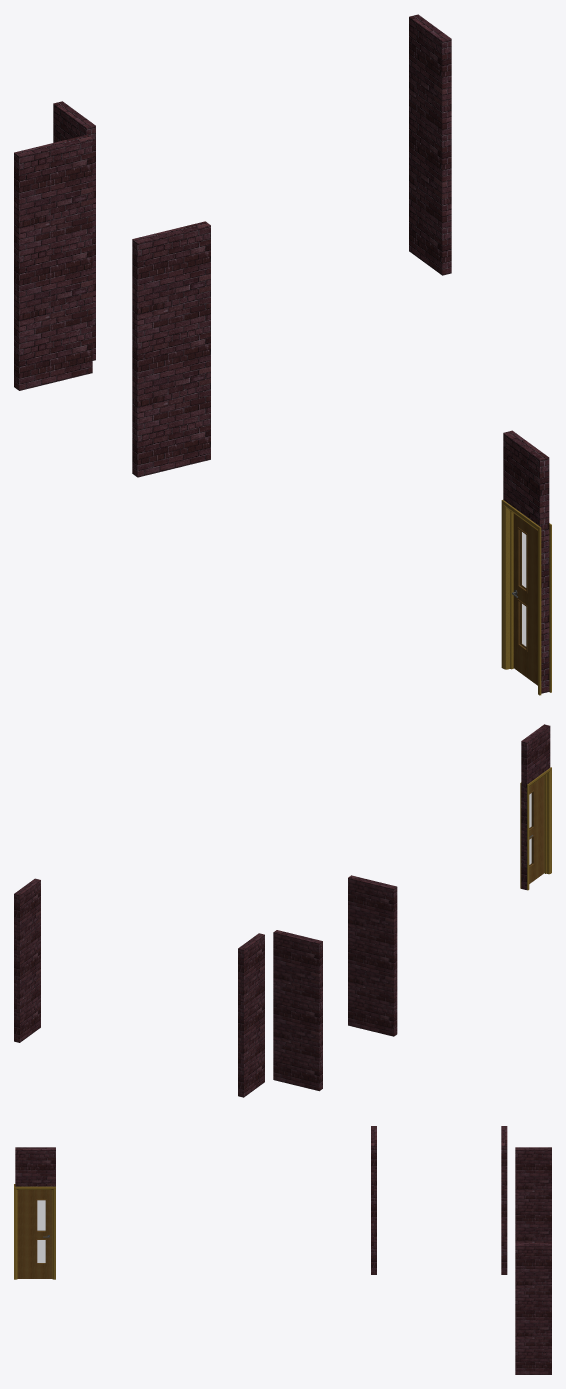
3 renders of one model, top to bottom at view 1: azimuth 30°, elevation 25°; view 2: azimuth 150°, elevation 25°; view 3: azimuth 270°, elevation 25°, orthographic. The views are drawn at different scales.
Parts seen in each view (by area): view 1: Basic Wall Wall-Ext_215Bwk [640806]001, Basic Wall Wall-Ext_215Bwk [647689]001, Basic Wall Wall-Ext_215Bwk [648112]001, Doors_IntSgl_3 810x2110mm [642473]001, Basic Wall Wall-Ext_215Bwk [642278]001, Basic Wall Wall-Ext_215Bwk [647976]001; view 2: Basic Wall Wall-Ext_215Bwk [647689]001, Basic Wall Wall-Ext_215Bwk [640806]001, Basic Wall Wall-Ext_215Bwk [647976]001, Basic Wall Wall-Ext_215Bwk [648112]001, Doors_IntSgl_3 810x2110mm [642473]001, Basic Wall Wall-Ext_215Bwk [642278]001; view 3: Basic Wall Wall-Ext_215Bwk [648112]001, Doors_IntSgl_3 810x2110mm [642473]001, Basic Wall Wall-Ext_215Bwk [647976]001, Basic Wall Wall-Ext_215Bwk [642278]001, Basic Wall Wall-Ext_215Bwk [647689]001, Basic Wall Wall-Ext_215Bwk [640806]001.
Part boxes in pixels (x1,y1,x2,y2): Basic Wall Wall-Ext_215Bwk [640806]001: (132, 221, 210, 477); Basic Wall Wall-Ext_215Bwk [647689]001: (14, 135, 92, 390); Basic Wall Wall-Ext_215Bwk [648112]001: (409, 14, 451, 275); Doors_IntSgl_3 810x2110mm [642473]001: (501, 500, 551, 695); Basic Wall Wall-Ext_215Bwk [642278]001: (503, 430, 549, 693); Basic Wall Wall-Ext_215Bwk [647976]001: (53, 101, 95, 360); Basic Wall Wall-Ext_215Bwk [647689]001: (273, 930, 322, 1091); Basic Wall Wall-Ext_215Bwk [640806]001: (348, 875, 397, 1036); Basic Wall Wall-Ext_215Bwk [647976]001: (238, 933, 264, 1097); Basic Wall Wall-Ext_215Bwk [648112]001: (14, 878, 40, 1042); Doors_IntSgl_3 810x2110mm [642473]001: (520, 767, 551, 890); Basic Wall Wall-Ext_215Bwk [642278]001: (521, 724, 550, 889); Basic Wall Wall-Ext_215Bwk [648112]001: (515, 1243, 551, 1374); Doors_IntSgl_3 810x2110mm [642473]001: (14, 1184, 55, 1279); Basic Wall Wall-Ext_215Bwk [647976]001: (515, 1147, 551, 1243); Basic Wall Wall-Ext_215Bwk [642278]001: (15, 1147, 55, 1186); Basic Wall Wall-Ext_215Bwk [647689]001: (501, 1126, 507, 1274); Basic Wall Wall-Ext_215Bwk [640806]001: (371, 1126, 376, 1274).
Bounding box in the file's own units: 5.95 × 3 × 11.31.
6 materials, 4 textured.
